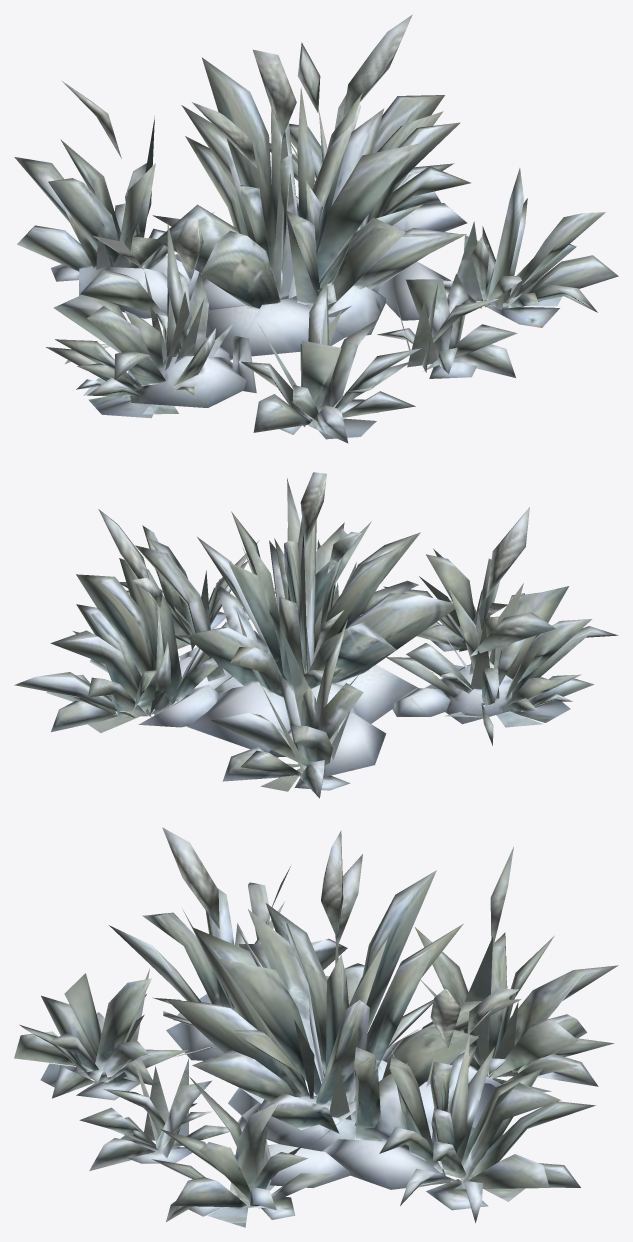
The model's file is rl_isle_silverleaf.glb.
The picture shows the model from 3 angles, top to bottom: view 1: azimuth 30°, elevation 25°; view 2: azimuth 150°, elevation 25°; view 3: azimuth 270°, elevation 25°; orthographic projection. The views are drawn at different scales.
Visible parts, largest first — view 1: kit-frost-grass-1; view 2: kit-frost-grass-1; view 3: kit-frost-grass-1.
Part boxes in pixels (box(x1,y1,x2,y2)): kit-frost-grass-1: box(14, 14, 618, 443); kit-frost-grass-1: box(14, 472, 618, 798); kit-frost-grass-1: box(14, 827, 618, 1227).
Bounding box in the file's own units: 1.3 × 0.65 × 1.3.
1 material, 1 textured.
